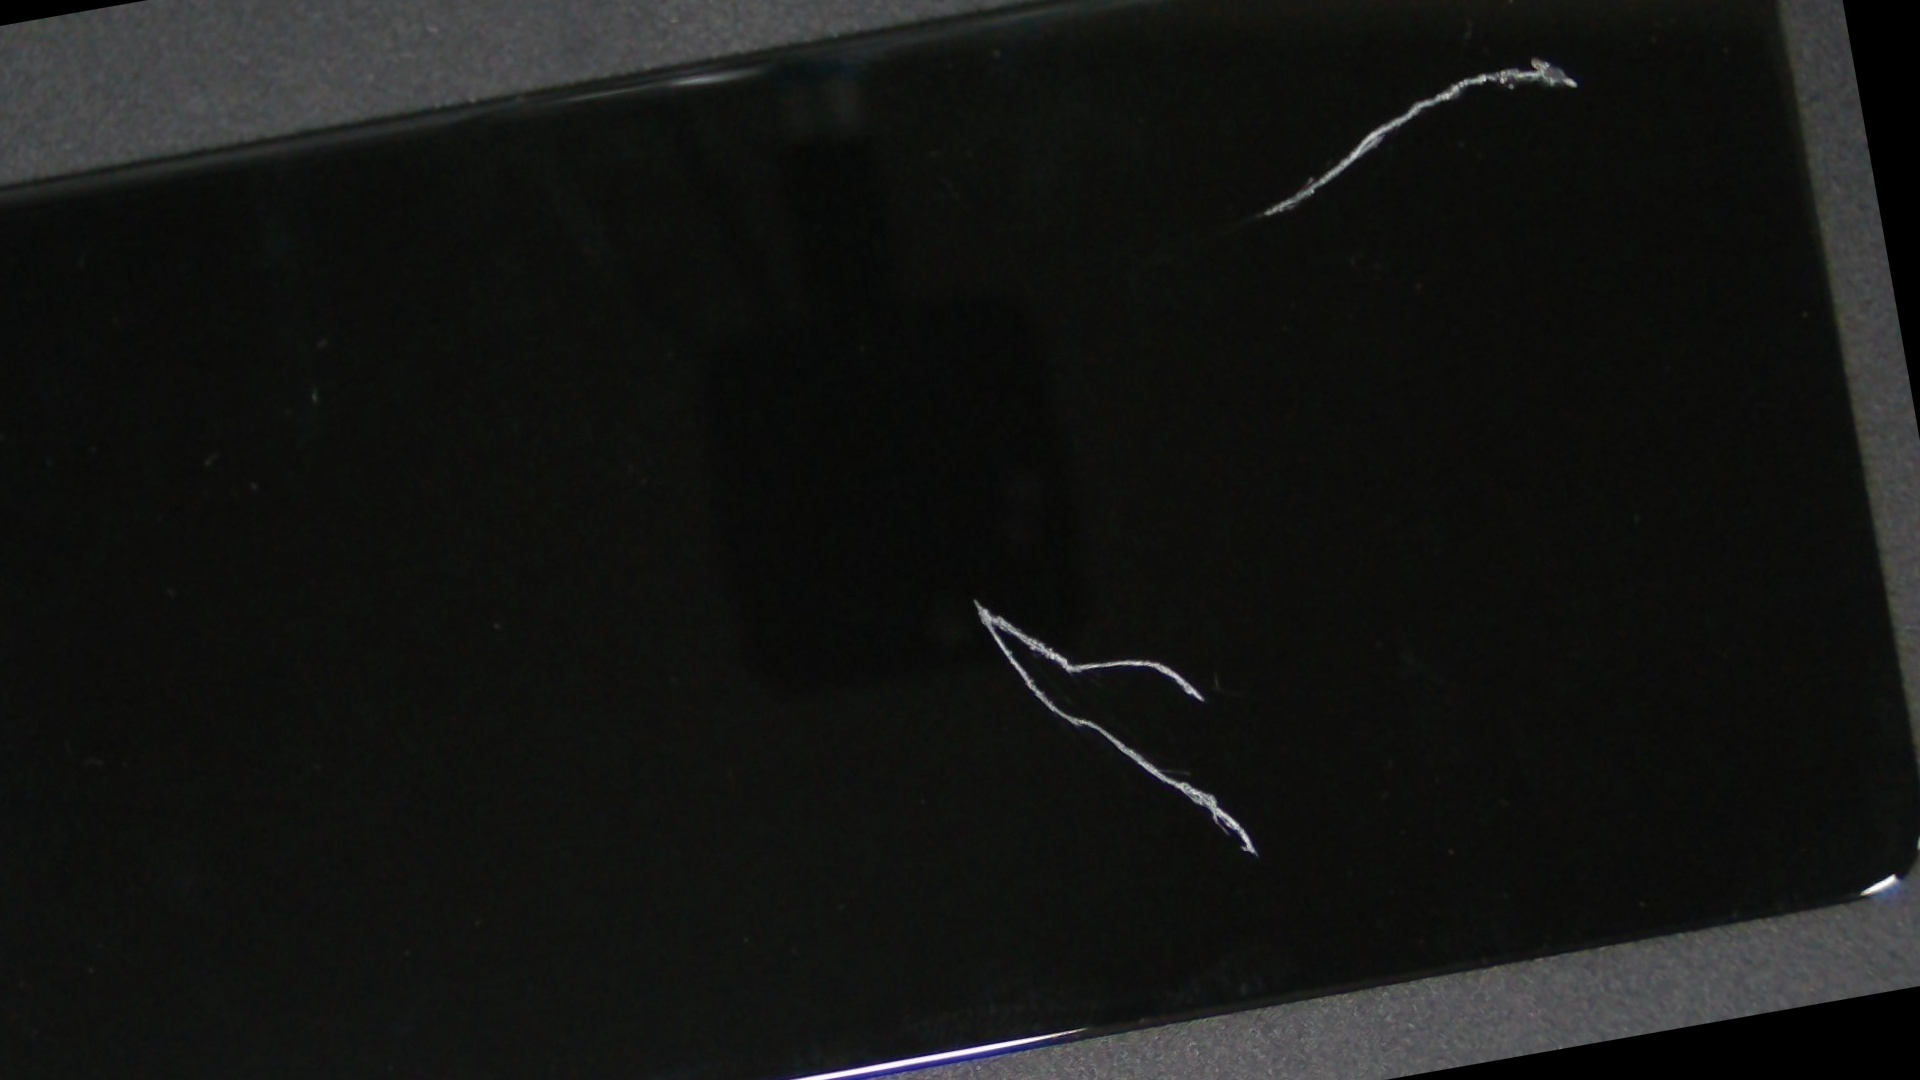oil: (365, 141, 1580, 1054), (646, 0, 1869, 355)
